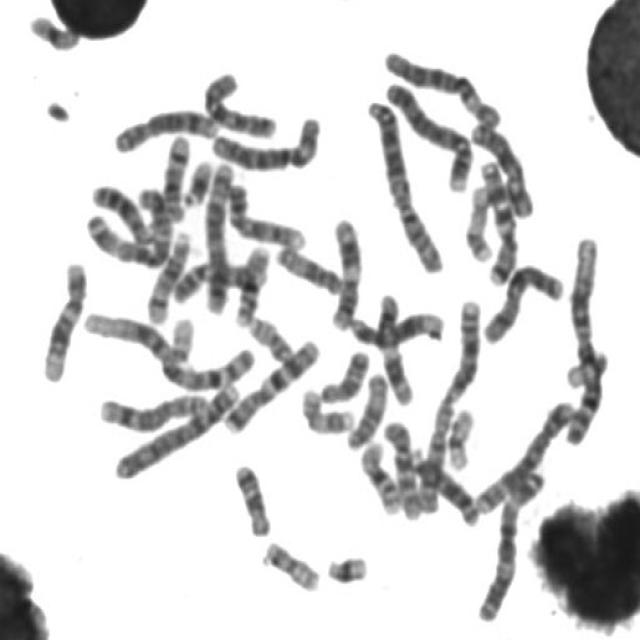A1: (77, 302, 259, 392), (561, 230, 605, 447)
A2: (410, 292, 485, 517), (362, 92, 446, 275)
A3: (471, 462, 549, 624), (81, 178, 175, 269)
B4: (110, 375, 242, 484), (379, 73, 475, 193)
B5: (470, 392, 578, 517), (199, 155, 237, 317)
C10: (198, 63, 280, 141), (379, 413, 424, 522)
C11: (372, 286, 418, 408), (323, 210, 364, 333)
C12: (36, 254, 88, 383), (344, 305, 446, 348)
C6: (378, 42, 503, 131), (206, 108, 324, 174)
C7: (219, 332, 322, 436), (474, 155, 520, 288)
C8: (108, 102, 221, 155), (94, 385, 212, 434)
C9: (221, 178, 308, 251), (166, 248, 271, 306)
D13: (404, 442, 482, 528), (86, 178, 156, 246)
D14: (142, 224, 194, 326), (155, 128, 193, 224)
D15: (271, 238, 347, 296), (341, 367, 390, 452)
E16: (354, 434, 404, 516), (229, 238, 272, 327)
E17: (296, 382, 356, 436), (460, 179, 494, 264)
E18: (229, 456, 273, 538), (314, 344, 372, 405)
F19: (441, 399, 477, 474), (24, 7, 82, 52)
F20: (257, 534, 323, 594), (242, 308, 296, 364)
G21: (176, 152, 216, 209), (321, 548, 370, 586)
G22: (560, 344, 612, 389), (164, 308, 198, 366)
X: (477, 256, 567, 346), (465, 114, 537, 220)
